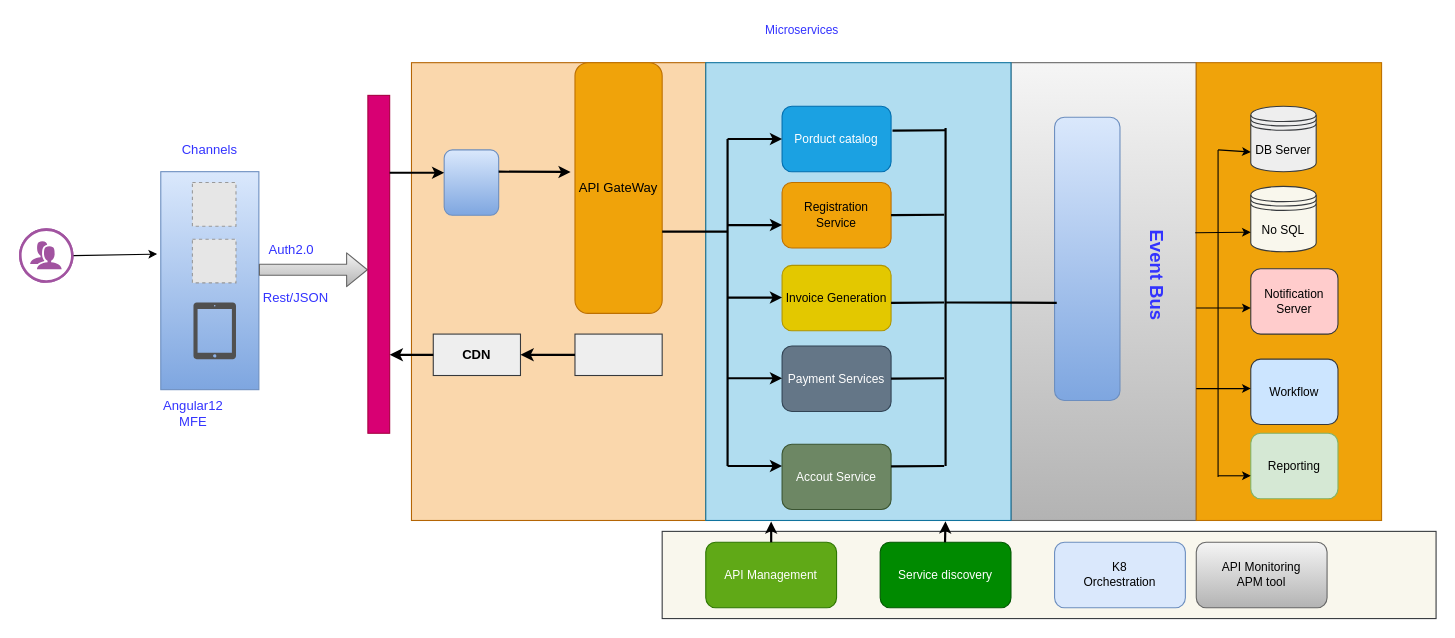
Image size: 1455x638. Some labels were removed from this diagram. Grey dashed boxes stand in for pictures. Here are the shapes that lost their labels. From the top down, the box of each, then its label:
(443, 149, 499, 215): Auth2 Authorization
(367, 94, 390, 433): C L I E N T
(1053, 116, 1120, 401): public Subscriber
(574, 333, 662, 376): Storage Gateway
